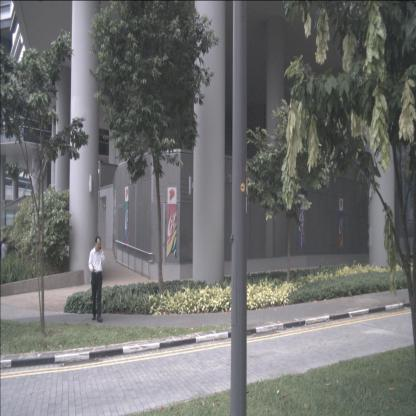human-pedestrian-adult: (89, 235, 105, 322), (1, 238, 8, 278)
